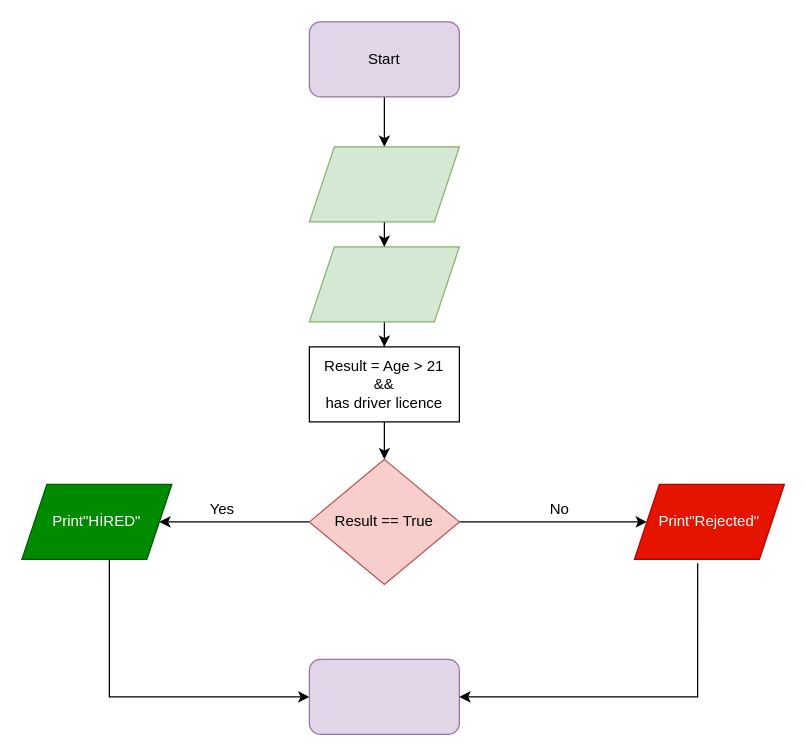
Some shapes in this 806 by 756 pixel diagram are drawn without their labels. Each missing label, with the box of its shape:
End: (308, 658, 459, 734)
Read the age of user: (308, 146, 459, 222)
Read the driver license: (308, 246, 459, 322)
